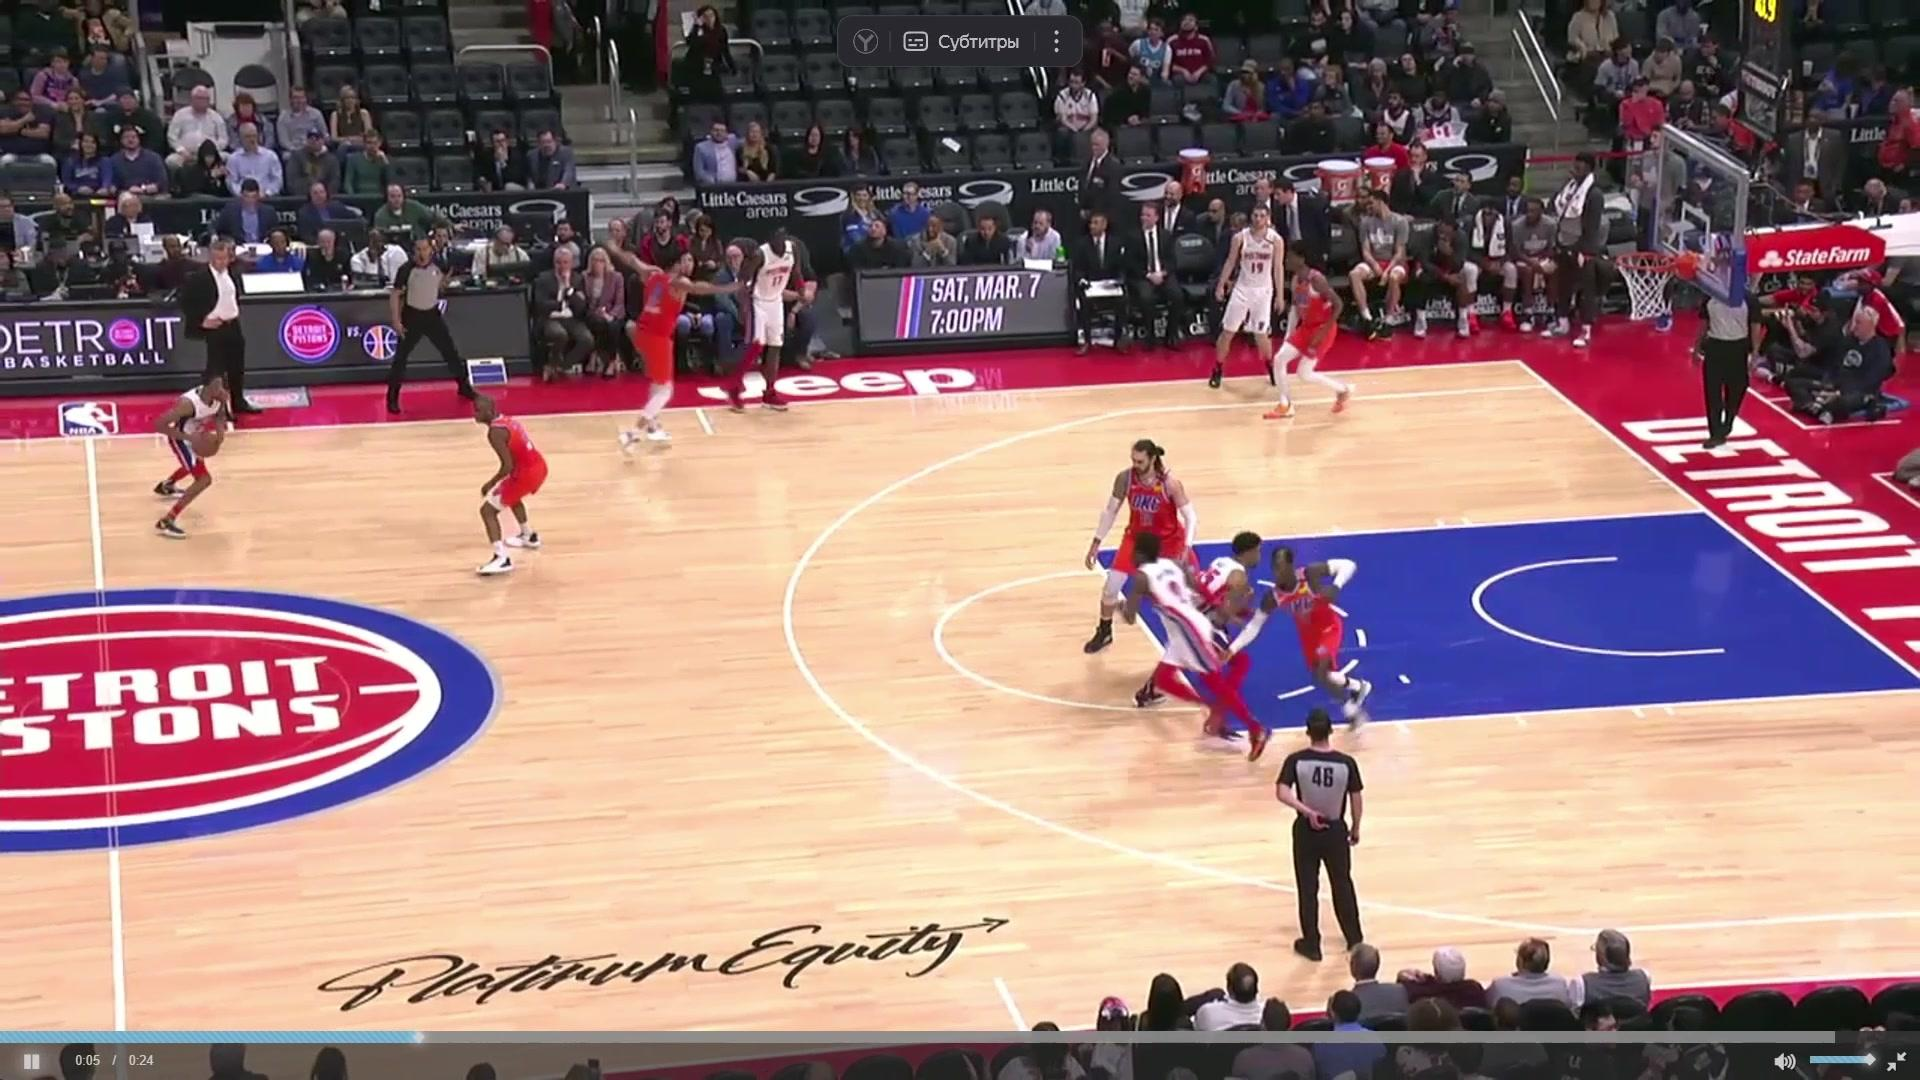no_foul: (1189, 520, 1390, 741)
